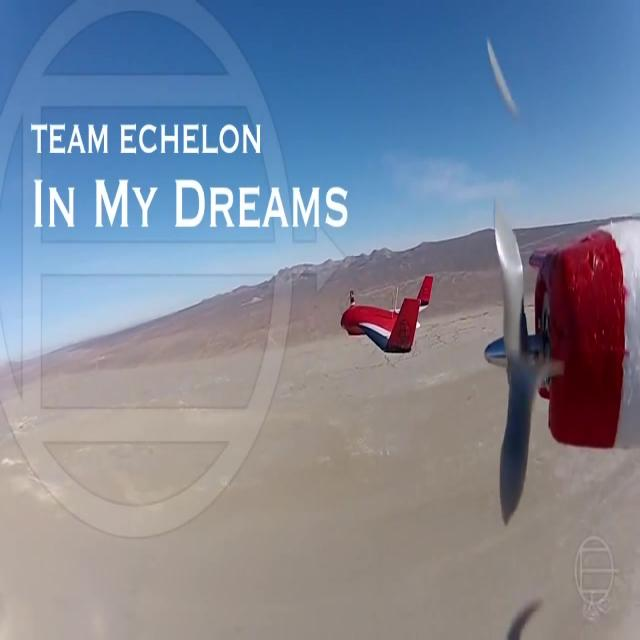iha: (369, 301, 402, 326)
